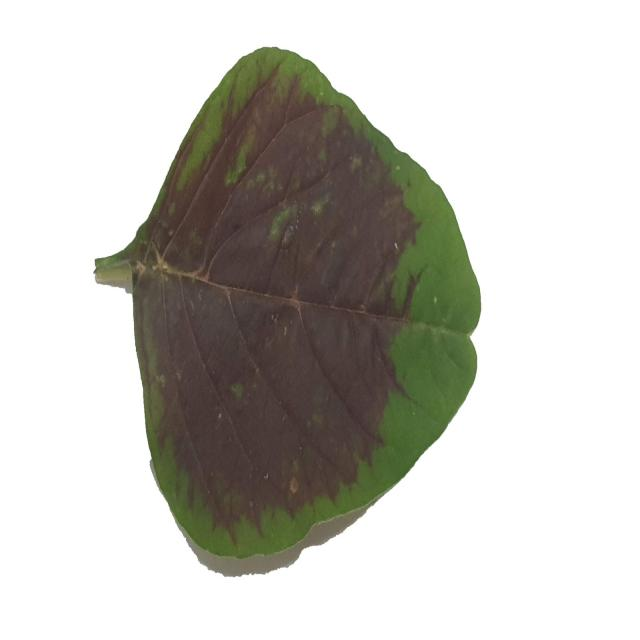Medicinal-Arive Dantu: (92, 36, 480, 568)
